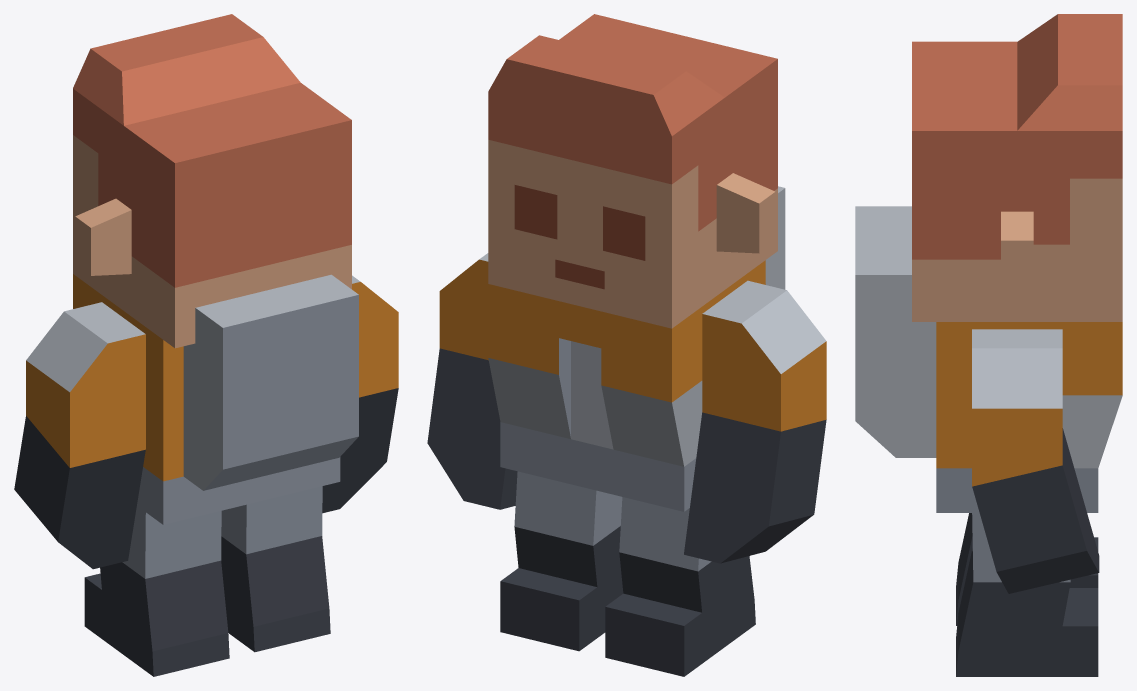
Rendered from astronauta.glb.
The picture shows the model from 3 angles, left to right: view 1: azimuth 30°, elevation 25°; view 2: azimuth 150°, elevation 25°; view 3: azimuth 270°, elevation 25°; orthographic projection. The views are drawn at different scales.
Parts seen in each view (by area): view 1: geometry_0; view 2: geometry_0; view 3: geometry_0.
Part boxes in pixels (x1,y1,x2,y2): geometry_0: (14, 14, 398, 676); geometry_0: (427, 14, 826, 676); geometry_0: (855, 14, 1122, 676).
Bounding box in the file's own units: 0.5056 × 0.83 × 0.3453.
